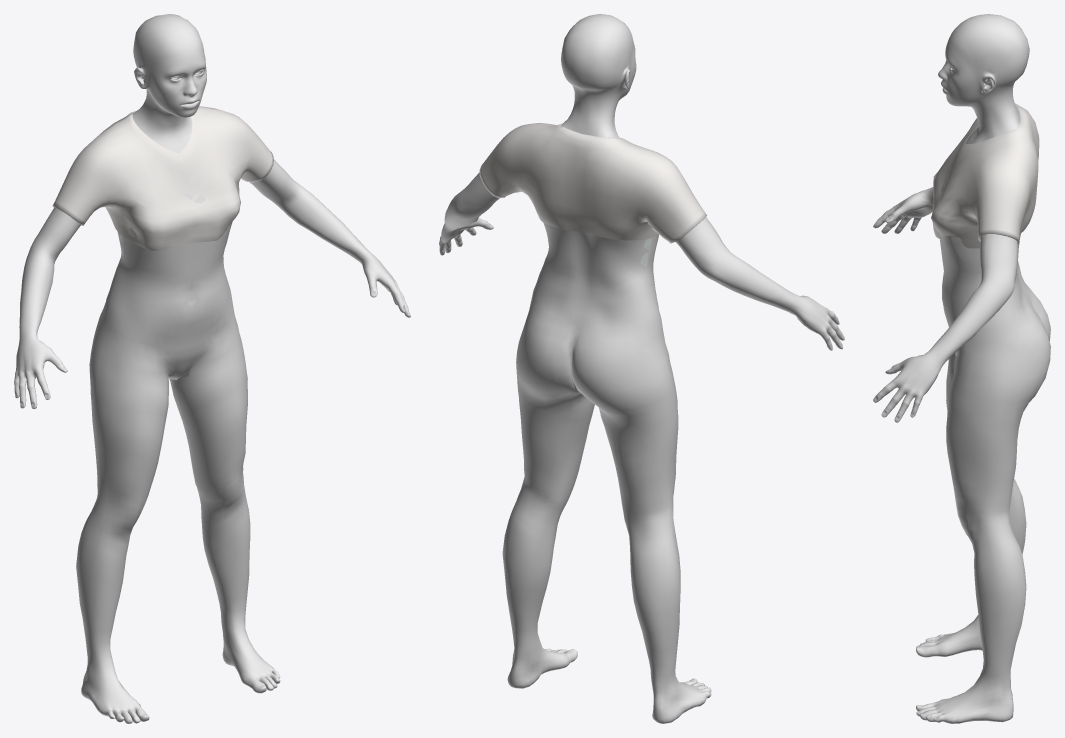
File: avatar_female.glb
3 renders of one model, left to right at view 1: azimuth 30°, elevation 25°; view 2: azimuth 150°, elevation 25°; view 3: azimuth 270°, elevation 25°, orthographic. The views are drawn at different scales.
Parts seen in each view (by area): view 1: avatar_fit, underwear; view 2: avatar_fit, underwear; view 3: avatar_fit, underwear.
Boxes of the visible parts, x1=… form: avatar_fit: x1=14, y1=14, x2=410, y2=723; underwear: x1=52, y1=106, x2=273, y2=250; avatar_fit: x1=439, y1=14, x2=844, y2=723; underwear: x1=479, y1=123, x2=706, y2=243; avatar_fit: x1=873, y1=14, x2=1050, y2=723; underwear: x1=931, y1=103, x2=1039, y2=248.
Size of the model in its own units: 0.9712 by 1.59 by 0.3841.
Materials: 2 (1 with a texture image).
